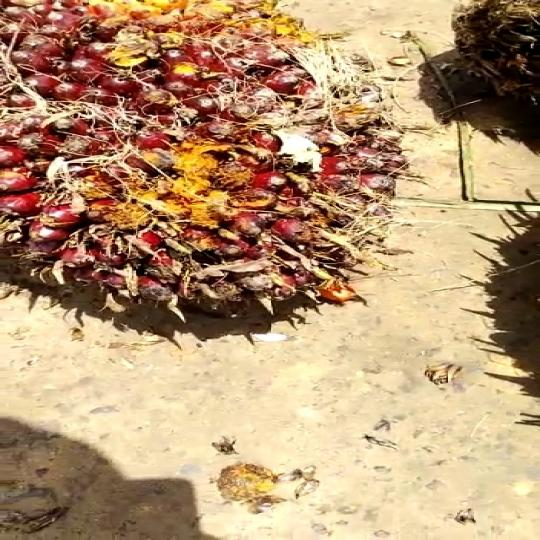kurang masak: (0, 0, 401, 332)
